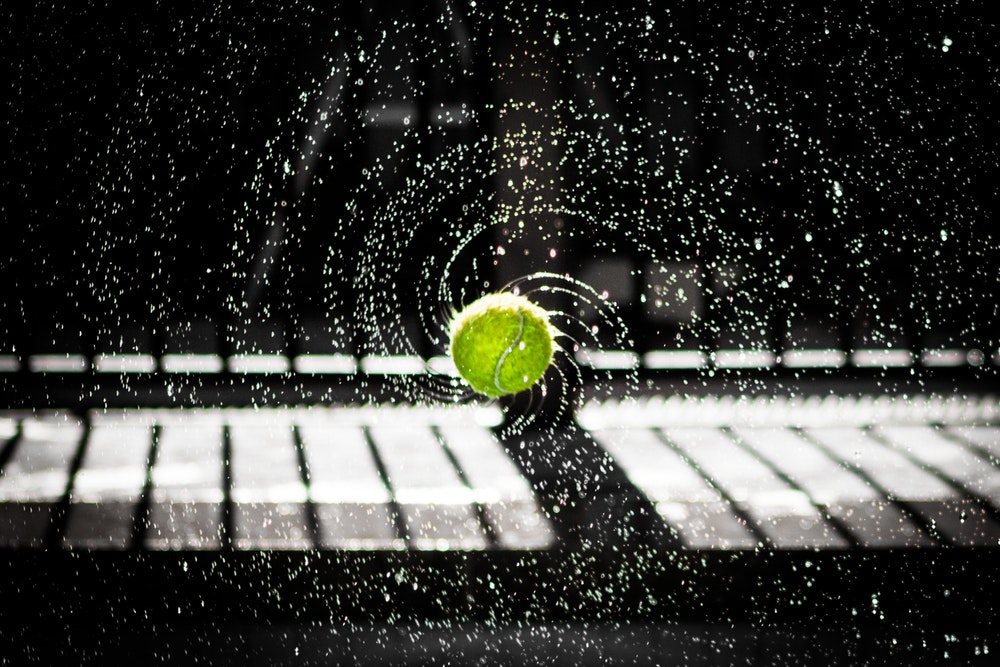aim: (451, 293, 552, 395)
